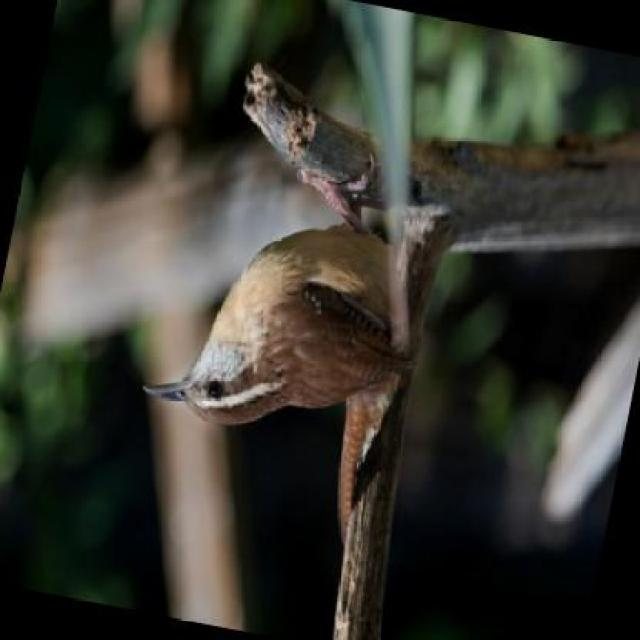Bird: (132, 227, 415, 436)
